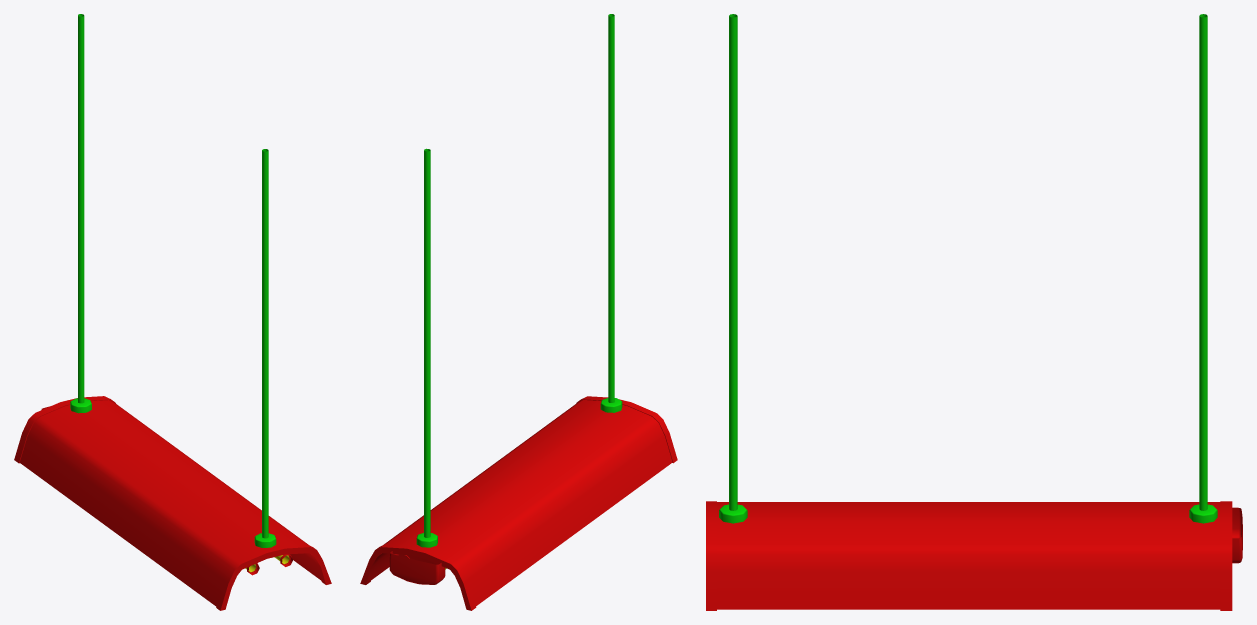
The model's file is CeilingLight.fbx.
3 views of the same model, side by side, from view 1: azimuth 30°, elevation 25°; view 2: azimuth 150°, elevation 25°; view 3: azimuth 270°, elevation 25° (orthographic). The views are drawn at different scales.
Parts seen in each view (by area): view 1: CeilingLight; view 2: CeilingLight; view 3: CeilingLight.
Part boxes in pixels (<box>): CeilingLight: <box>14,14,331,610</box>; CeilingLight: <box>360,14,677,610</box>; CeilingLight: <box>706,14,1242,610</box>.
Size of the model in its own units: 1.22 by 4.6 by 3.99.
